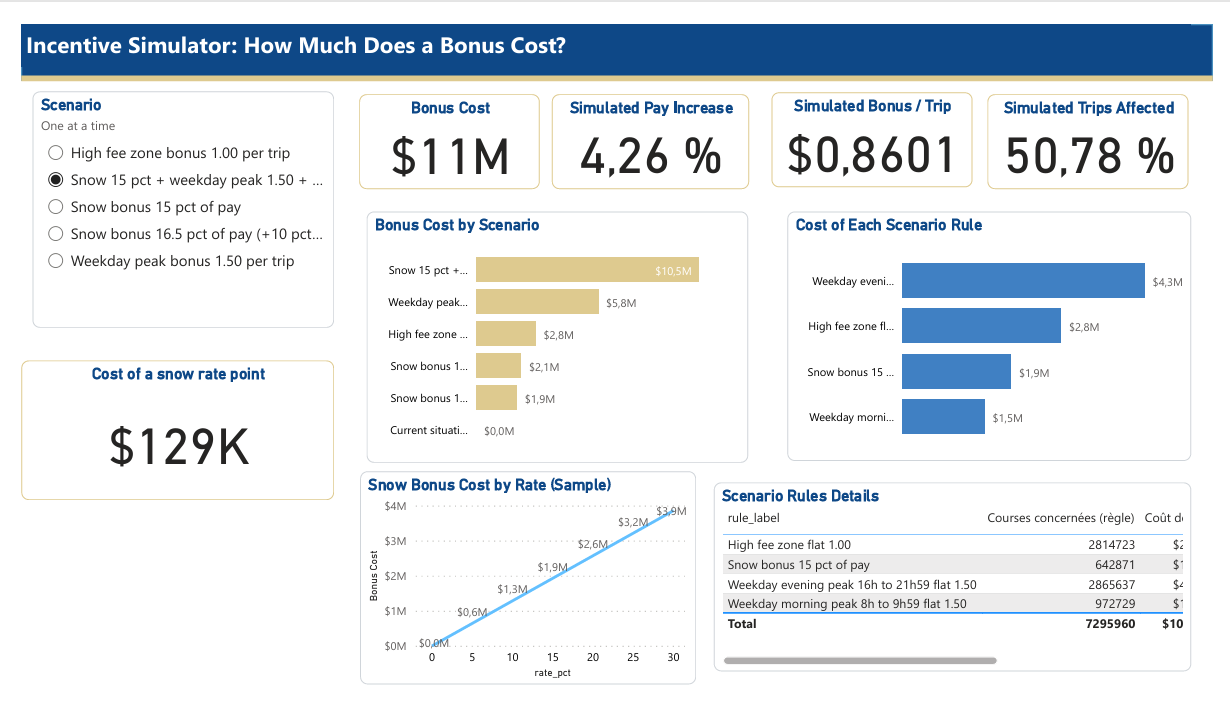

The dashboard page shown, as its layout file describes it:
{"tool":"powerbi","page":{"name":"Simulateur de scénarios","canvas":[1280,720],"ordinal":1},"visuals":[{"type":"textbox","box":[9.5,0,1246.1,74.7],"z":0},{"type":"slicer","fields":{"Values":["sim_scenario_comparison.scenario_label"]},"box":[9.8,73.8,1245.5,150.2],"z":1},{"type":"card","fields":{"Values":["_Mesures.Coût du bonus"]},"box":[9.8,219.1,194.5,150.2],"z":2},{"type":"card","fields":{"Values":["_Mesures.Hausse de la rémunération (sim.)"]},"box":[204.3,219.1,194.5,150.2],"z":3},{"type":"card","fields":{"Values":["_Mesures.Bonus par course (sim.)"]},"box":[438.2,219.1,194.5,150.2],"z":4},{"type":"card","fields":{"Values":["_Mesures.Courses concernées (sim.)"]},"box":[694.2,219.1,194.5,150.2],"z":5},{"type":"columnChart","fields":{"Category":["sim_scenario_comparison.scenario_label"],"Y":["_Mesures.Coût du bonus"]},"box":[0.9,369.2,354.5,150.2],"z":7},{"type":"columnChart","fields":{"Category":["sim_scenario_rule_bonus.rule_label"],"Y":["_Mesures.Coût de la règle"]},"box":[438.9,369.4,194,150],"z":8},{"type":"lineChart","title":"Coût du bonus neige selon le taux (échantillon)","fields":{"Category":["sim_snow_sensitivity.rate_pct"],"Y":["_Mesures.Coût du bonus"]},"box":[0,528.6,194,150],"z":9},{"type":"card","fields":{"Values":["_Mesures.Coût d'un point de taux (neige)"]},"box":[194.6,508.7,366.8,150.2],"z":10},{"type":"tableEx","fields":{"Values":["sim_scenario_rule_bonus.rule_label","_Mesures.Courses concernées (règle)","_Mesures.Coût de la règle","_Mesures.Bonus par course concernée","_Mesures.Part du scénario"]},"box":[694.2,509.5,561.2,150.2],"z":11}]}

Visuals, with their boxes in screenshot pixels (x1, y1, x2, y2), scaled from the page's 1280x720 canvas onto the 1230x702 screenshot:
textbox: 9/0/1207/73
slicer - sim_scenario_comparison.scenario_label: 9/72/1206/218
card - _Mesures.Coût du bonus: 9/214/196/360
card - _Mesures.Hausse de la rémunération (sim.): 196/214/383/360
card - _Mesures.Bonus par course (sim.): 421/214/608/360
card - _Mesures.Courses concernées (sim.): 667/214/854/360
columnChart - sim_scenario_comparison.scenario_label x _Mesures.Coût du bonus: 1/360/342/506
columnChart - sim_scenario_rule_bonus.rule_label x _Mesures.Coût de la règle: 422/360/608/506
"Coût du bonus neige selon le taux (échantillon)" lineChart: 0/515/186/662
card - _Mesures.Coût d'un point de taux (neige): 187/496/539/642
tableEx - sim_scenario_rule_bonus.rule_label x _Mesures.Courses concernées (règle): 667/497/1206/643
